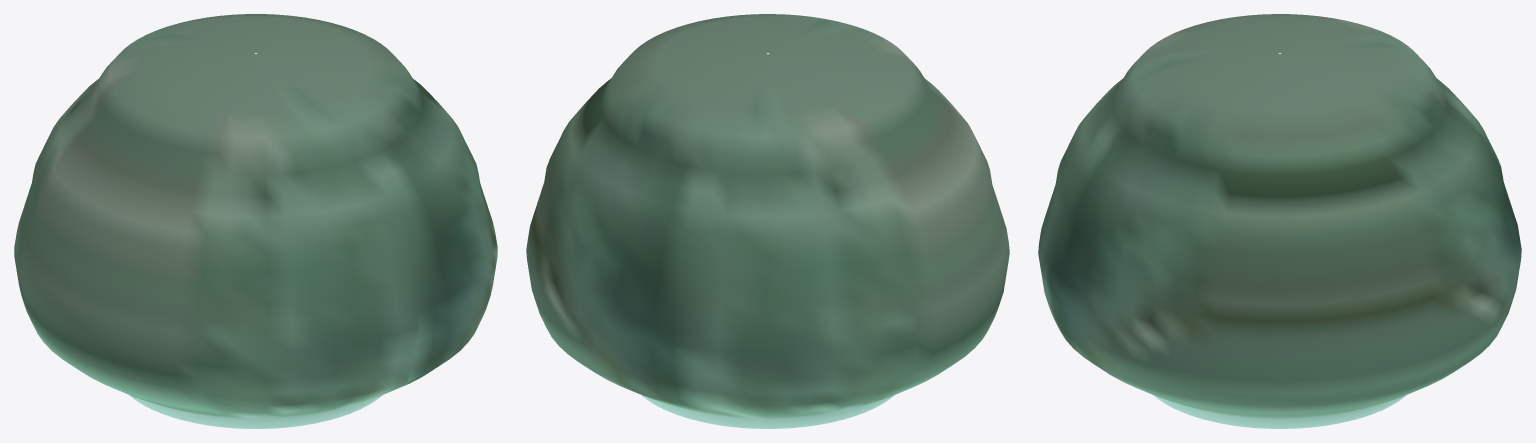
The model's file is knit-bush-0.glb.
3 renders of one model, left to right at view 1: azimuth 30°, elevation 25°; view 2: azimuth 150°, elevation 25°; view 3: azimuth 270°, elevation 25°, orthographic.
Parts seen in each view (by area): view 1: knit-bush-0; view 2: knit-bush-0; view 3: knit-bush-0.
Part boxes in pixels (bbox=[...]): knit-bush-0: bbox=[14, 14, 497, 428]; knit-bush-0: bbox=[526, 14, 1009, 428]; knit-bush-0: bbox=[1038, 14, 1521, 428].
Size of the model in its own units: 0.3873 by 0.2793 by 0.3873.
